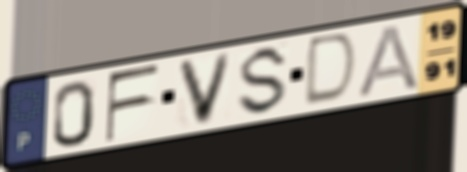0: (51, 77, 98, 149)
A: (354, 22, 422, 100)
D: (301, 30, 361, 109)
F: (103, 61, 163, 146)
S: (233, 43, 292, 118)
V: (174, 50, 236, 129)
